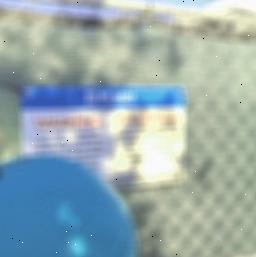algae: (0, 151, 133, 257)
